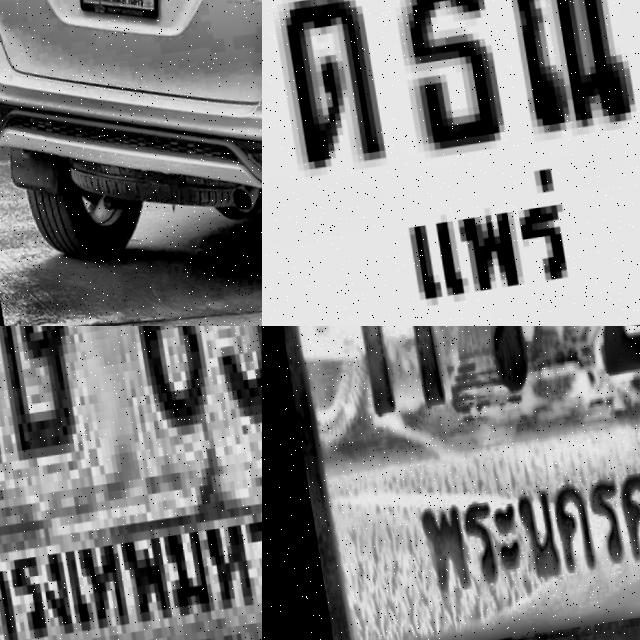license-plate: (262, 0, 640, 326), (262, 326, 640, 640), (0, 326, 262, 640), (65, 0, 161, 34)
